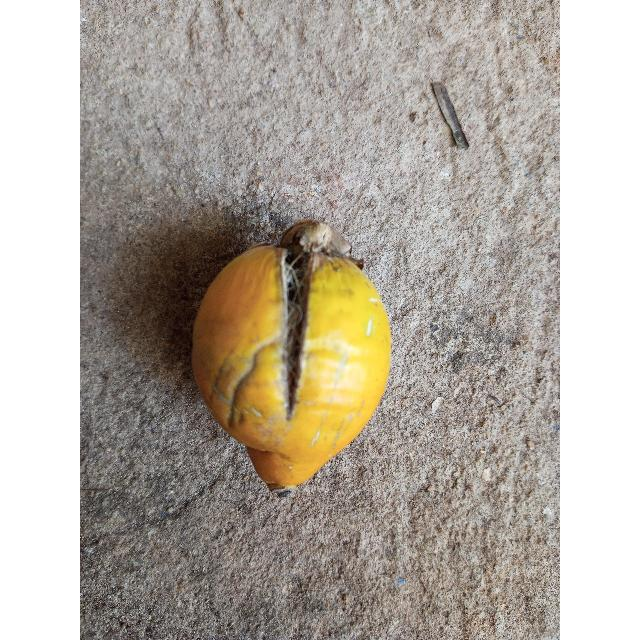damaged: (191, 223, 392, 491)
